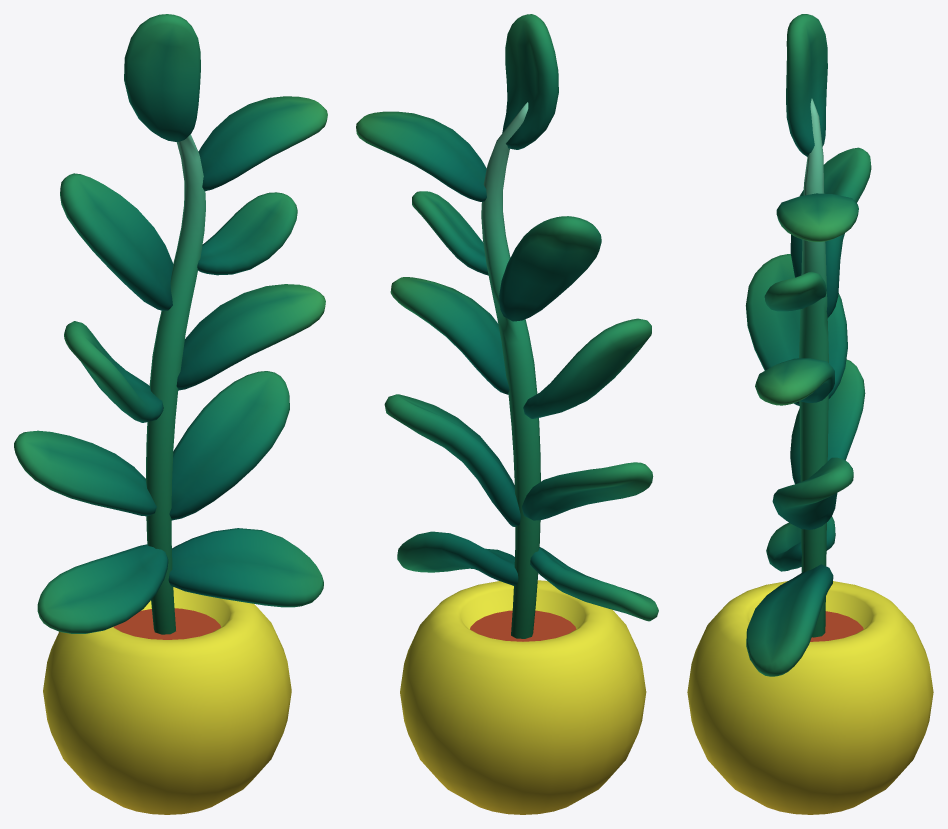
Rendered from Plants_23.glb.
The picture shows the model from 3 angles, left to right: view 1: azimuth 30°, elevation 25°; view 2: azimuth 150°, elevation 25°; view 3: azimuth 270°, elevation 25°; orthographic projection.
Parts seen in each view (by area): view 1: Plants_23; view 2: Plants_23; view 3: Plants_23.
Part boxes in pixels (left/top/right/bottom): Plants_23: left=14, top=14, right=327, bottom=814; Plants_23: left=356, top=14, right=658, bottom=814; Plants_23: left=687, top=14, right=933, bottom=814.
Bounding box in the file's own units: 0.3361 × 0.832 × 0.2411.
1 material, 1 textured.
